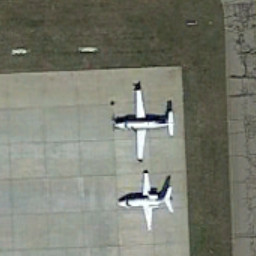Airplane: (95, 76, 187, 168), (110, 168, 182, 234)
